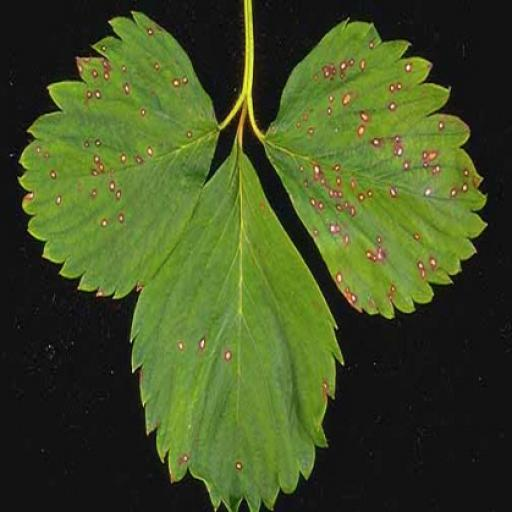Leaf Spot: (129, 133, 345, 511), (263, 16, 490, 320), (16, 11, 220, 299)
